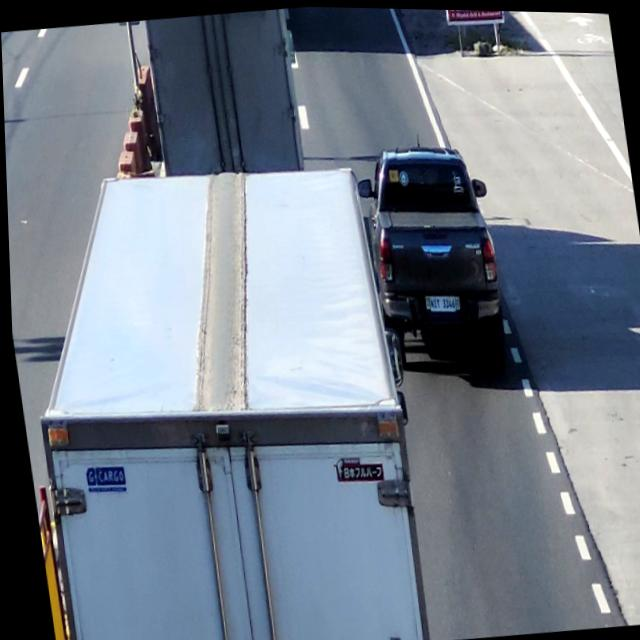Car: (360, 137, 515, 378)
License-Plate: (420, 288, 463, 320)
Truck: (8, 151, 427, 640), (144, 5, 301, 175)
